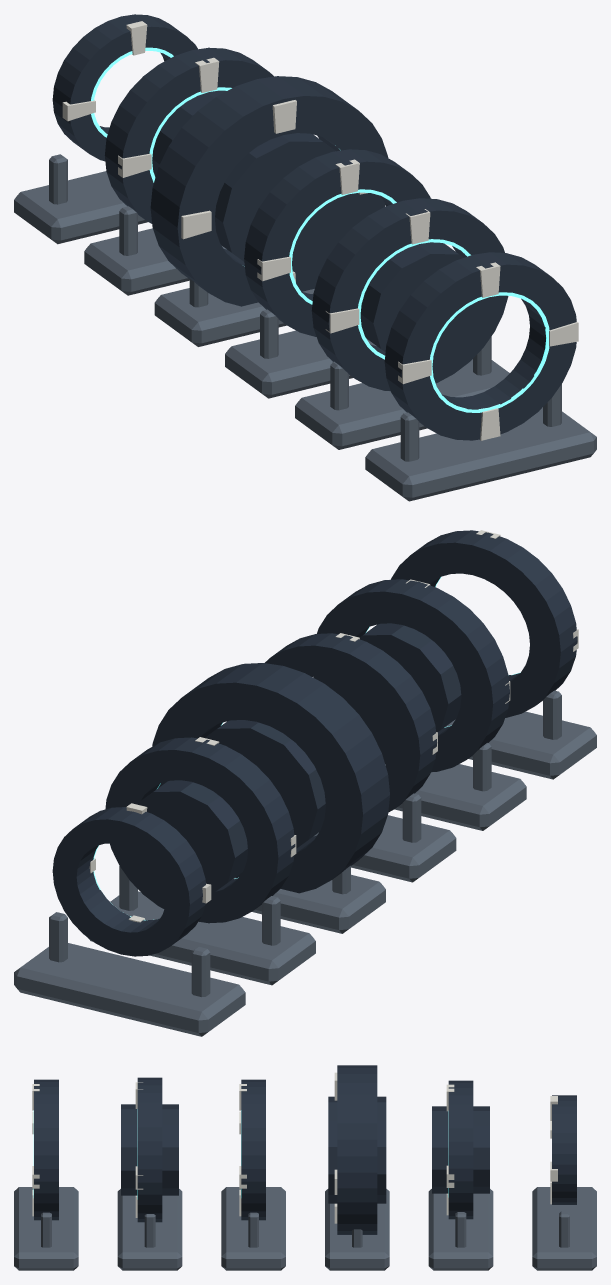
Rendered from tool_pipeline.glb.
3 views of the same model, one above another, from view 1: azimuth 30°, elevation 25°; view 2: azimuth 150°, elevation 25°; view 3: azimuth 270°, elevation 25° (orthographic). The views are drawn at different scales.
Visible parts, largest first — view 1: tool_pipeline__execute, tool_pipeline__pre, tool_pipeline__guard, tool_pipeline__approval, tool_pipeline__foot, tool_pipeline__post, tool_pipeline__stage_body__02, tool_pipeline__result, tool_pipeline__foot__02, tool_pipeline__stage_body, tool_pipeline__foot__06, tool_pipeline__foot__03 (+11 smaller); view 2: tool_pipeline__execute, tool_pipeline__post, tool_pipeline__result, tool_pipeline__guard, tool_pipeline__pre, tool_pipeline__foot__06, tool_pipeline__approval, tool_pipeline__foot__05, tool_pipeline__stage_body__03, tool_pipeline__stage_body__02, tool_pipeline__stage_body, tool_pipeline__foot__02 (+9 smaller); view 3: tool_pipeline__execute, tool_pipeline__foot__06, tool_pipeline__foot__03, tool_pipeline__foot, tool_pipeline__foot__05, tool_pipeline__foot__02, tool_pipeline__guard, tool_pipeline__post, tool_pipeline__approval, tool_pipeline__pre, tool_pipeline__foot__04, tool_pipeline__stage_body (+8 smaller).
Part boxes in pixels (x1,y1,x2,y2): tool_pipeline__execute: (150, 76, 388, 306); tool_pipeline__pre: (384, 252, 576, 440); tool_pipeline__guard: (311, 198, 508, 391); tool_pipeline__approval: (244, 149, 430, 336); tool_pipeline__foot: (365, 407, 596, 501); tool_pipeline__post: (104, 47, 273, 223); tool_pipeline__stage_body__02: (215, 133, 355, 269); tool_pipeline__result: (52, 14, 197, 161); tool_pipeline__foot__02: (295, 359, 509, 449); tool_pipeline__stage_body: (360, 242, 486, 363); tool_pipeline__foot__06: (14, 171, 147, 244); tool_pipeline__foot__03: (225, 330, 376, 398); tool_pipeline__execute: (152, 663, 389, 893); tool_pipeline__post: (105, 737, 296, 923); tool_pipeline__result: (52, 803, 211, 956); tool_pipeline__guard: (313, 579, 510, 772); tool_pipeline__pre: (391, 530, 578, 717); tool_pipeline__foot__06: (14, 943, 245, 1036); tool_pipeline__approval: (265, 633, 437, 812); tool_pipeline__foot__05: (87, 891, 315, 985); tool_pipeline__stage_body__03: (130, 780, 247, 894); tool_pipeline__stage_body__02: (205, 720, 325, 848); tool_pipeline__stage_body: (335, 623, 461, 744); tool_pipeline__foot__02: (385, 764, 526, 830); tool_pipeline__execute: (334, 1065, 377, 1234); tool_pipeline__foot__06: (532, 1187, 596, 1270); tool_pipeline__foot__03: (221, 1187, 285, 1270); tool_pipeline__foot: (14, 1187, 78, 1270); tool_pipeline__foot__05: (428, 1189, 493, 1270); tool_pipeline__foot__02: (117, 1189, 182, 1270); tool_pipeline__guard: (135, 1077, 162, 1222); tool_pipeline__post: (446, 1080, 473, 1219); tool_pipeline__approval: (239, 1079, 265, 1220); tool_pipeline__pre: (32, 1079, 58, 1220); tool_pipeline__foot__04: (325, 1189, 389, 1270); tool_pipeline__stage_body: (121, 1104, 178, 1195).
Size of the model in its own units: 1.8 by 1.8 by 5.8.
